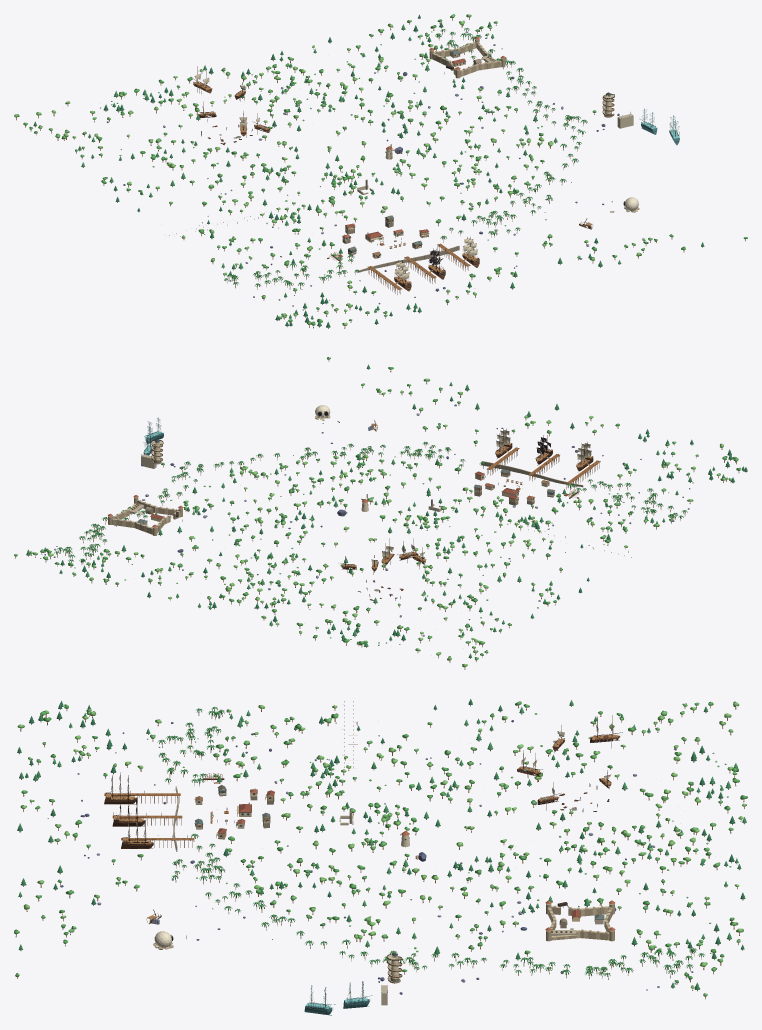
Rendered from world_blacksail.visual.glb.
The picture shows the model from 3 angles, top to bottom: view 1: azimuth 30°, elevation 25°; view 2: azimuth 150°, elevation 25°; view 3: azimuth 270°, elevation 25°; orthographic projection. The views are drawn at different scales.
Visible parts, largest first — view 1: Trees_Leaves, Trees_Trunks, Nassau, Nassau_Craft_Stone; view 2: Trees_Leaves, Trees_Trunks, Nassau, Nassau_Craft_Stone; view 3: Trees_Leaves, Trees_Trunks, Nassau_Craft_Stone, Nassau, Rocks.
Part boxes in pixels (bbox=[...]): Trees_Leaves: bbox=[14, 14, 747, 327]; Trees_Trunks: bbox=[16, 17, 745, 328]; Nassau: bbox=[327, 222, 470, 294]; Nassau_Craft_Stone: bbox=[342, 39, 639, 258]; Trees_Leaves: bbox=[14, 357, 747, 667]; Trees_Trunks: bbox=[15, 360, 746, 669]; Nassau: bbox=[474, 447, 600, 505]; Nassau_Craft_Stone: bbox=[108, 411, 554, 535]; Trees_Leaves: bbox=[14, 699, 747, 996]; Trees_Trunks: bbox=[15, 705, 744, 999]; Nassau_Craft_Stone: bbox=[153, 788, 614, 981]; Nassau: bbox=[104, 774, 274, 851]; Rocks: bbox=[47, 716, 714, 994].
Bounding box in the file's own units: 669 × 95.5 × 697.
